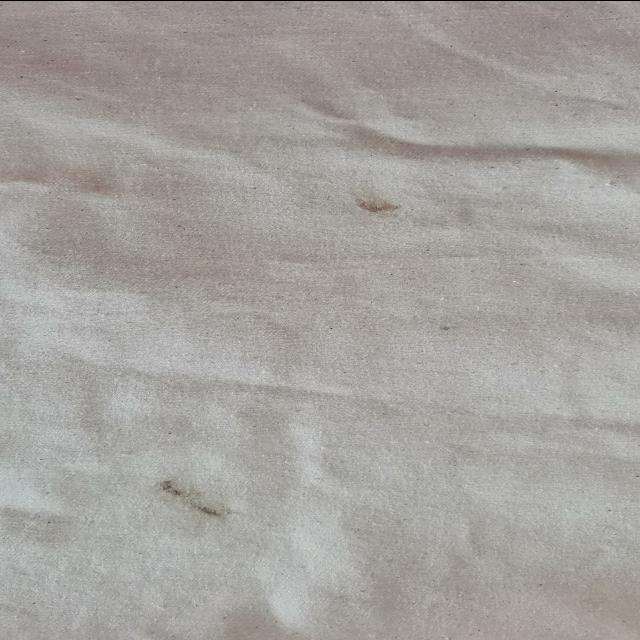taaaches: (139, 474, 243, 524), (354, 194, 401, 217)
